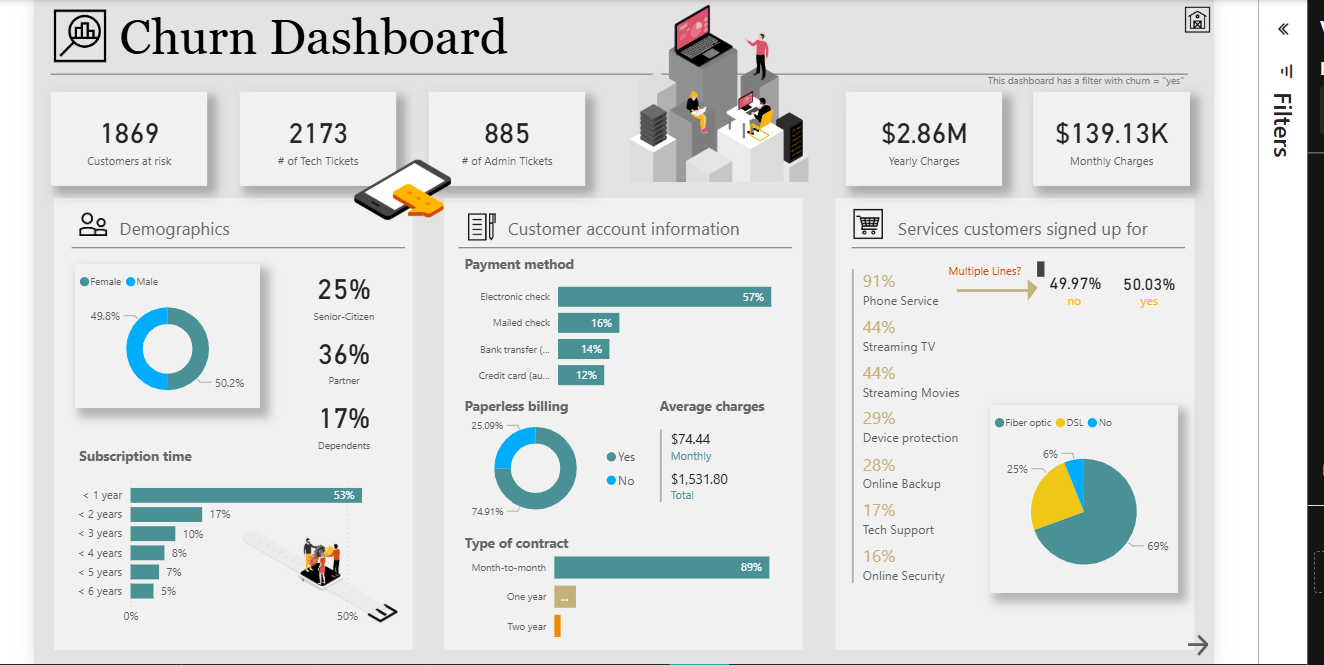

The dashboard page shown, as its layout file describes it:
{"tool":"powerbi","page":{"name":"Churn","canvas":[1280,720],"ordinal":1},"visuals":[{"type":"textbox","box":[87.7,4.9,1173.8,75],"z":0},{"type":"basicShape","box":[8.7,60.7,1253,40.5],"z":1000},{"type":"basicShape","box":[18.3,210,396.8,499.9],"z":2000},{"type":"card","fields":{"Values":["CountNonNull(churn.customerID)"]},"box":[18.5,99.4,170,102.3],"z":3000},{"type":"basicShape","box":[441.6,210,396.8,499.9],"z":4000},{"type":"basicShape","box":[864.9,210,396.8,499.9],"z":5000},{"type":"textbox","box":[508.5,228.6,314.9,35.6],"z":6000},{"type":"basicShape","box":[450.7,248.9,381.4,39.5],"z":7000},{"type":"image","box":[461.3,226.3,47.2,39.5],"z":8000},{"type":"textbox","box":[932.7,228.6,314.9,35.6],"z":9000},{"type":"basicShape","box":[877.4,248.9,381.4,39.5],"z":10000},{"type":"textbox","box":[88,228.6,314.9,35.6],"z":11000},{"type":"basicShape","box":[30.2,248.9,381.4,39.5],"z":12000},{"type":"image","box":[883.2,220.6,42.4,43.3],"z":13000},{"type":"image","box":[43.3,220.6,40.5,44.3],"z":14000},{"type":"donutChart","fields":{"Category":["churn.gender"],"Y":["CountNonNull(churn.gender)"]},"box":[43.8,286,201.3,156.6],"z":15000},{"type":"card","fields":{"Values":["churn.SeniorCitizen in %"]},"box":[271.4,268.7,128.1,100.2],"z":16000},{"type":"card","fields":{"Values":["churn.Partner in %"]},"box":[271.4,338.1,128.4,100.2],"z":17000},{"type":"card","fields":{"Values":["churn.Dependents in %"]},"box":[271.4,407.5,128.4,100.2],"z":18000},{"type":"clusteredBarChart","fields":{"Category":["churn.Contract"],"Y":["CountNonNull(churn.Contract)"]},"box":[461.3,577.9,370.8,131.9],"z":19000},{"type":"clusteredBarChart","fields":{"Y":["CountNonNull(churn.PaymentMethod)"],"Category":["churn.PaymentMethod"]},"box":[461.3,286,370.8,148.3],"z":20000},{"type":"textbox","box":[461.3,269.7,314.9,35.6],"z":21000},{"type":"textbox","box":[461.3,424.7,204.2,35.6],"z":22000},{"type":"donutChart","fields":{"Category":["churn.PaperlessBilling"],"Y":["CountNonNull(churn.PaperlessBilling)"]},"box":[461.3,438.2,204.2,139.7],"z":23000},{"type":"multiRowCard","fields":{"Values":["Avg(churn.MonthlyCharges)","Avg(churn.TotalCharges)"]},"box":[674.2,460.4,149.3,95.3],"z":24000},{"type":"textbox","box":[461.3,572.1,314.9,35.6],"z":25000},{"type":"pieChart","fields":{"Category":["churn.InternetService"],"Y":["Divide(CountNonNull(churn.InternetService), ScopedEval(CountNonNull(churn.InternetService), []))"]},"box":[1035.6,438.4,204.1,204.1],"z":26000},{"type":"card","fields":{"Values":["churn.Multiple Lines in %"]},"box":[1172.8,276.4,72.2,62.6],"z":27000},{"type":"card","fields":{"Values":["churn.Multiple lines no in %"]},"box":[1093.1,276.4,72.2,61.6],"z":28000},{"type":"textbox","box":[971.7,278.2,129.4,27.2],"z":29000},{"type":"textbox","box":[1092.2,311,73.2,35.6],"z":30000},{"type":"textbox","box":[1172.8,311,73.2,35.6],"z":31000},{"type":"textbox","box":[674.2,424.7,148.3,35.6],"z":32000},{"type":"multiRowCard","fields":{"Values":["churn.Phone Service in %","churn.Streaming TV in %","churn.Streaming Movies in %","churn.Device protection in %","churn.Online Bacup in %","churn.Tech Support in %","churn.Online Sec. in %"]},"box":[882.2,286,165.3,414.3],"z":33000},{"type":"basicShape","box":[990.2,300.5,97.3,28.2],"z":34000},{"type":"basicShape","box":[1063.1,296.7,37.9,32.1],"z":35000},{"type":"clusteredBarChart","fields":{"Y":["CountNonNull(churn.Churn)"],"Category":["churn.Loyalty"]},"box":[37,507.7,365.7,179],"z":36000},{"type":"textbox","box":[43.8,478.5,314.2,35],"z":37000},{"type":"actionButton","box":[1246.1,680.1,31.6,39.5],"z":39000},{"type":"image","box":[16.6,4.9,67.2,68.2],"z":40000},{"type":"card","fields":{"Values":["Sum(churn.MonthlyCharges)"]},"box":[1083.9,99.4,170,102.3],"z":41000},{"type":"image","box":[635,0,217.3,202.2],"z":42000},{"type":"image","box":[221.1,556.2,178.3,139.3],"z":43000},{"type":"card","fields":{"Values":["Sum(churn.numTechTickets)"]},"box":[222.8,99.4,170,102.3],"z":44000},{"type":"card","fields":{"Values":["Sum(churn.numAdminTickets)"]},"box":[427.1,99.4,170,102.3],"z":45000},{"type":"card","fields":{"Values":["Sum(churn.TotalCharges)"]},"box":[879.7,99.4,170,102.3],"z":46000},{"type":"textbox","box":[897,72.3,355.9,30.5],"z":47000},{"type":"image","box":[341.9,151,115.9,108.1],"z":48000},{"type":"image","box":[1242,0,38,42.9],"z":49000},{"type":"image","box":[1129,0,151,94.5],"z":50000}]}

Visuals, with their boxes on the page's 1280x720 design canvas (x1, y1, x2, y2). These are canvas units, not pixel positions in the 1324x665 screenshot, which may show the page scaled, cropped or inside an application window:
textbox: 88, 5, 1262, 80
basicShape: 9, 61, 1262, 101
basicShape: 18, 210, 415, 710
card - CountNonNull(churn.customerID): 18, 99, 188, 202
basicShape: 442, 210, 838, 710
basicShape: 865, 210, 1262, 710
textbox: 508, 229, 823, 264
basicShape: 451, 249, 832, 288
image: 461, 226, 508, 266
textbox: 933, 229, 1248, 264
basicShape: 877, 249, 1259, 288
textbox: 88, 229, 403, 264
basicShape: 30, 249, 412, 288
image: 883, 221, 926, 264
image: 43, 221, 84, 265
donutChart - churn.gender x CountNonNull(churn.gender): 44, 286, 245, 443
card - churn.SeniorCitizen in %: 271, 269, 400, 369
card - churn.Partner in %: 271, 338, 400, 438
card - churn.Dependents in %: 271, 408, 400, 508
clusteredBarChart - churn.Contract x CountNonNull(churn.Contract): 461, 578, 832, 710
clusteredBarChart - CountNonNull(churn.PaymentMethod) x churn.PaymentMethod: 461, 286, 832, 434
textbox: 461, 270, 776, 305
textbox: 461, 425, 666, 460
donutChart - churn.PaperlessBilling x CountNonNull(churn.PaperlessBilling): 461, 438, 666, 578
multiRowCard - Avg(churn.MonthlyCharges) x Avg(churn.TotalCharges): 674, 460, 824, 556
textbox: 461, 572, 776, 608
pieChart - churn.InternetService x Divide(CountNonNull(churn.InternetService), ScopedEval(CountNonNull(churn.InternetService), [])): 1036, 438, 1240, 642
card - churn.Multiple Lines in %: 1173, 276, 1245, 339
card - churn.Multiple lines no in %: 1093, 276, 1165, 338
textbox: 972, 278, 1101, 305
textbox: 1092, 311, 1165, 347
textbox: 1173, 311, 1246, 347
textbox: 674, 425, 822, 460
multiRowCard - churn.Phone Service in % x churn.Streaming TV in %: 882, 286, 1048, 700
basicShape: 990, 300, 1088, 329
basicShape: 1063, 297, 1101, 329
clusteredBarChart - CountNonNull(churn.Churn) x churn.Loyalty: 37, 508, 403, 687
textbox: 44, 478, 358, 514
actionButton: 1246, 680, 1278, 720
image: 17, 5, 84, 73
card - Sum(churn.MonthlyCharges): 1084, 99, 1254, 202
image: 635, 0, 852, 202
image: 221, 556, 399, 696
card - Sum(churn.numTechTickets): 223, 99, 393, 202
card - Sum(churn.numAdminTickets): 427, 99, 597, 202
card - Sum(churn.TotalCharges): 880, 99, 1050, 202
textbox: 897, 72, 1253, 103
image: 342, 151, 458, 259
image: 1242, 0, 1280, 43
image: 1129, 0, 1280, 94
